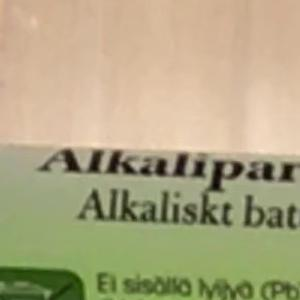keyword: (28, 140, 114, 183)
